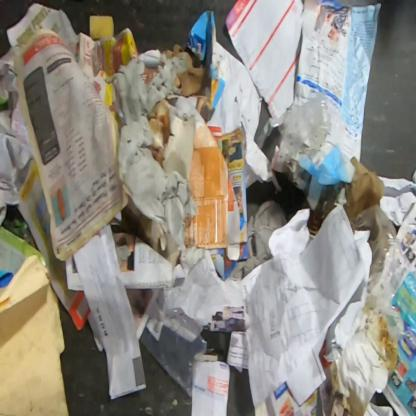cardboard: (162, 10, 226, 122), (343, 156, 385, 224), (254, 381, 319, 415)
soft_plastic: (140, 288, 209, 399), (358, 219, 415, 344), (256, 91, 332, 162)
